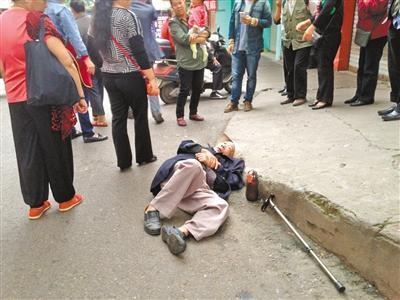Fall-Detected: (142, 122, 253, 263)
